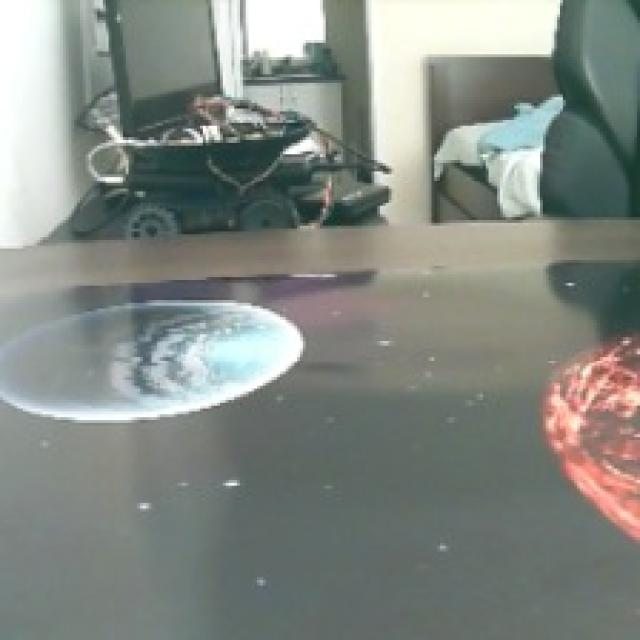Earth: (0, 298, 307, 424)
Sun: (542, 324, 640, 550)
